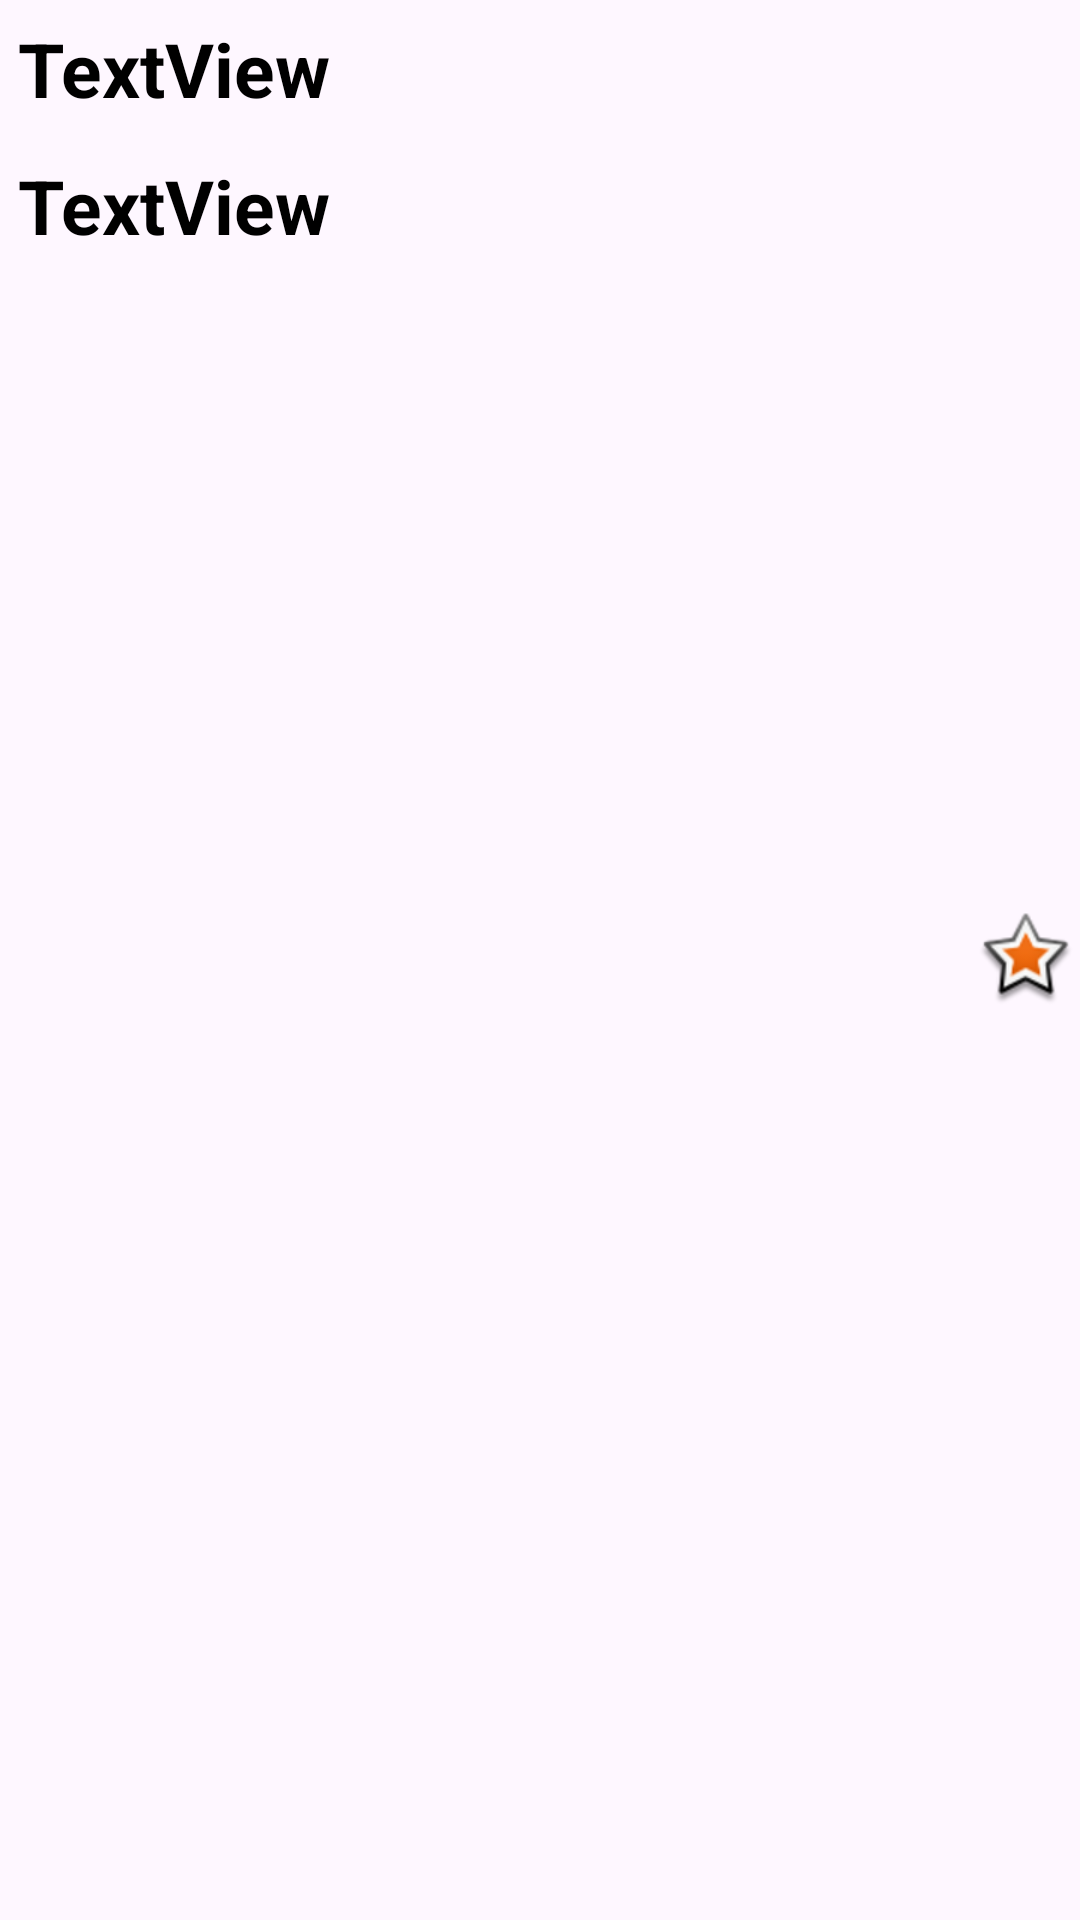

Point at icon controls on the screen. Image size 1080×1920, points as point (x, y).
star on: point (1026, 956)
